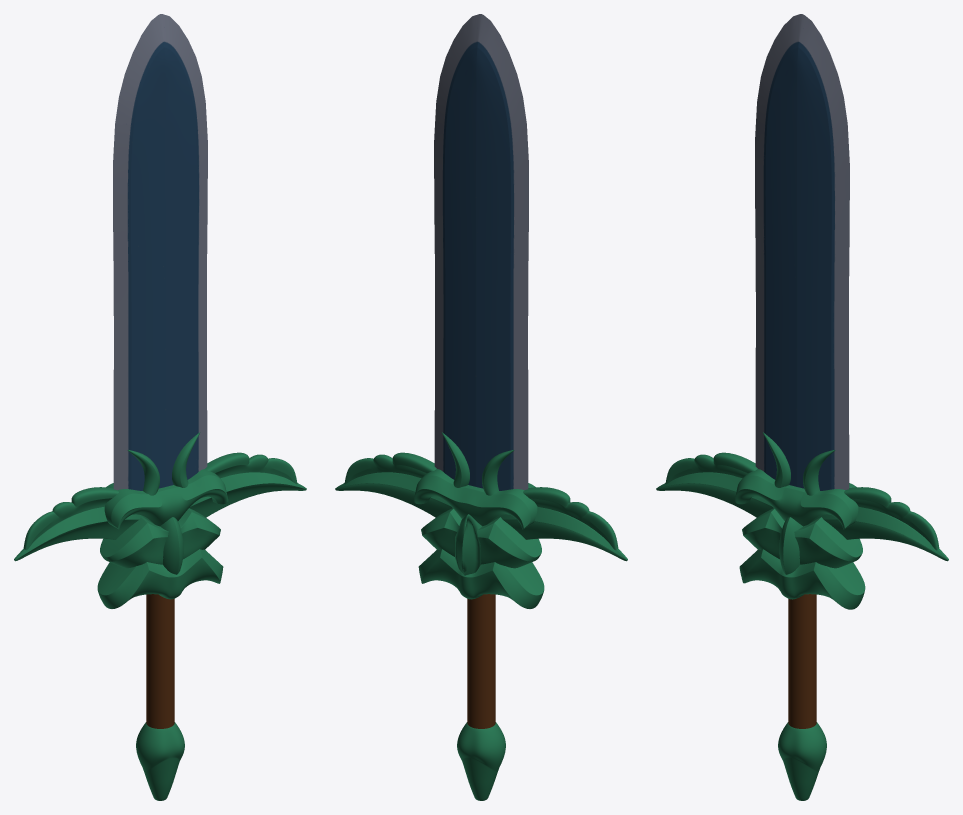
The model's file is Nexo_Sword_2.fbx.
The picture shows the model from 3 angles, left to right: view 1: azimuth 30°, elevation 25°; view 2: azimuth 150°, elevation 25°; view 3: azimuth 330°, elevation 25°; orthographic projection.
Parts seen in each view (by area): view 1: Blade_2, Figure, Grip_2, Cone_base; view 2: Blade_2, Figure, Grip_2, Cone_base; view 3: Blade_2, Figure, Grip_2, Cone_base.
Boxes of the visible parts, x1,y1,x2,y2 form: Blade_2: (113, 14, 207, 490); Figure: (14, 432, 306, 608); Grip_2: (146, 594, 174, 728); Cone_base: (136, 722, 184, 800); Blade_2: (434, 14, 528, 490); Figure: (335, 432, 627, 608); Grip_2: (467, 594, 495, 728); Cone_base: (457, 722, 505, 800); Blade_2: (755, 14, 849, 490); Figure: (656, 432, 948, 609); Grip_2: (788, 594, 816, 728); Cone_base: (778, 722, 826, 800).
Bounding box in the file's own units: 4.73 × 12.12 × 1.08.
